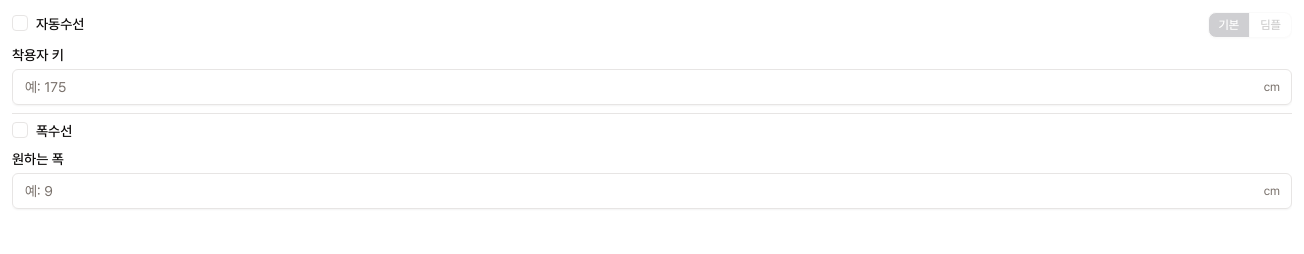
Test: BulkApplySection › handleBulkApply 검증 › 자동수선 선택 후 값 미입력 시 착용자 키 인라인 에러를 표시하고 false를 반환한다
Click the checkbox labelled "자동수선" at (60, 25), box [36,15,84,35]
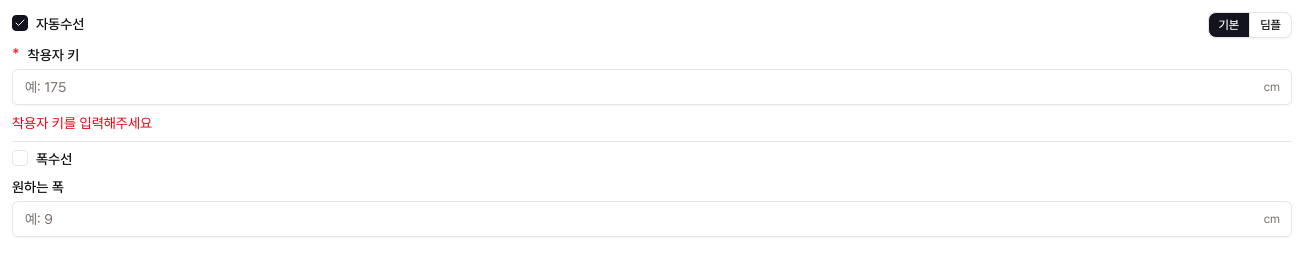
Now the text "착용자 키를 입력해주세요" is shown, box [12,115,152,131]
